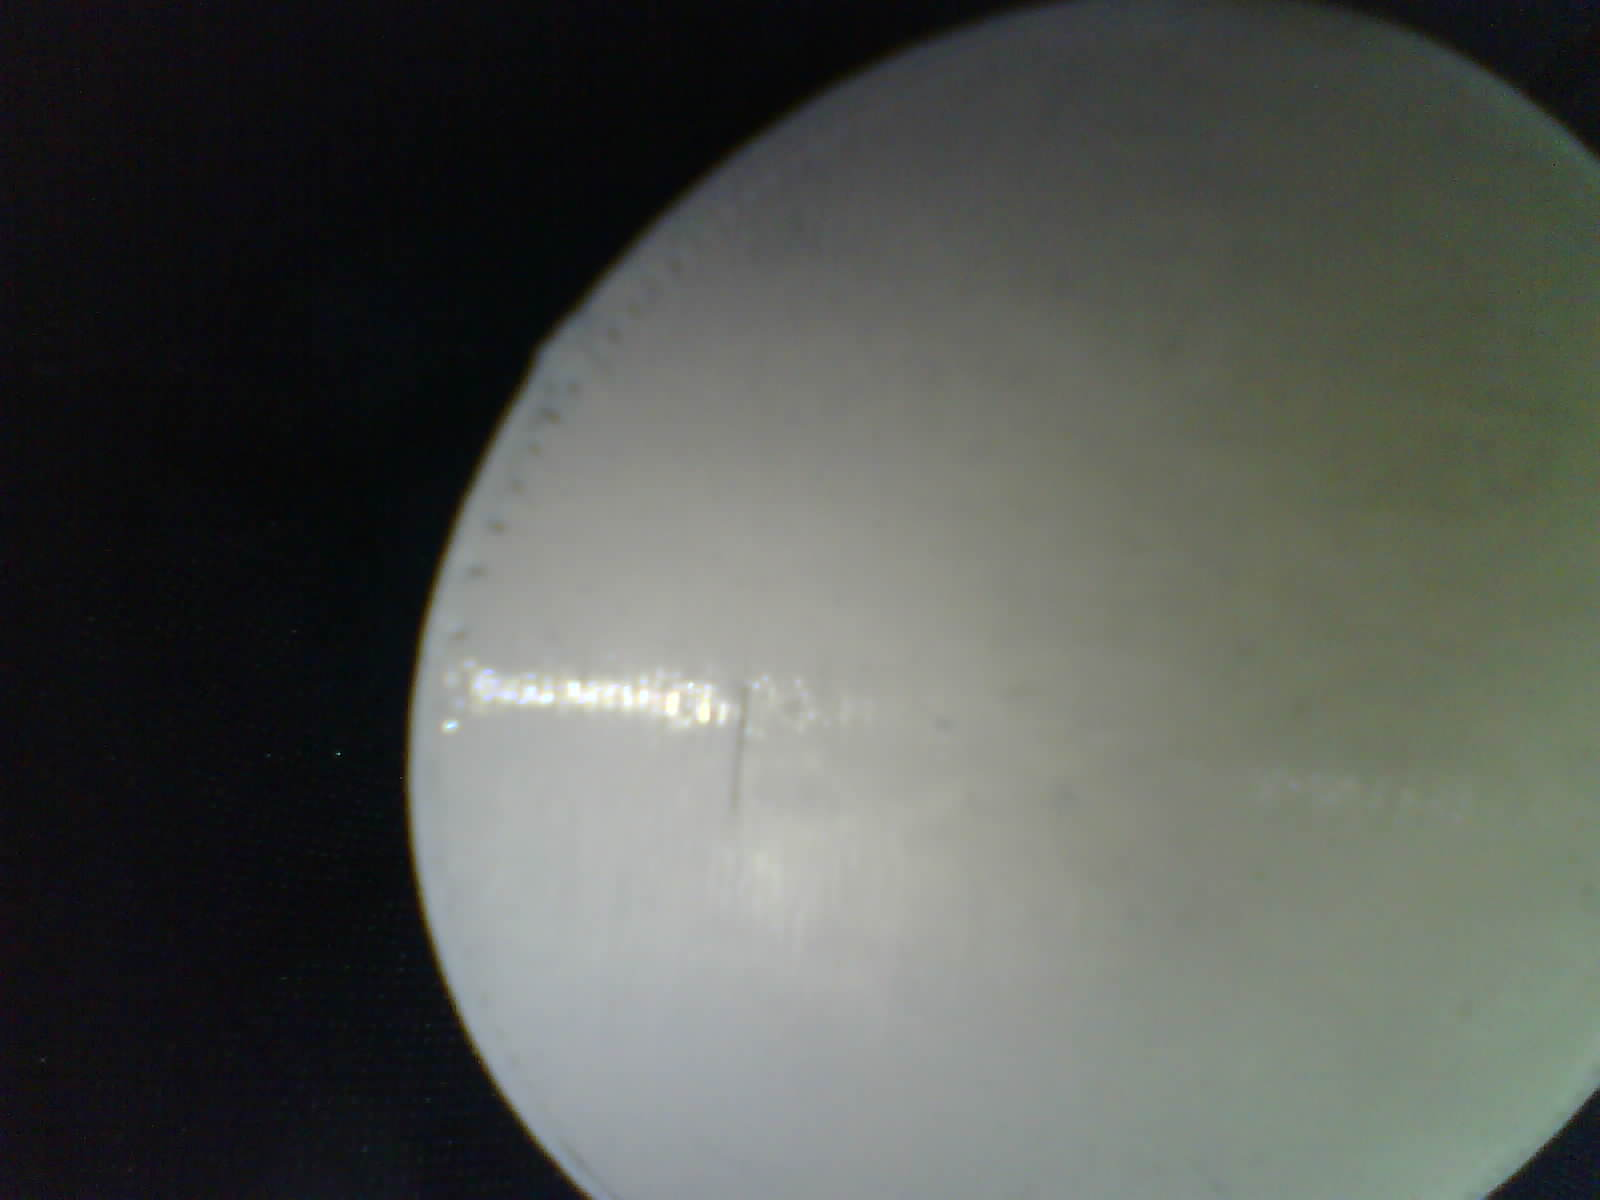cylinder-hard: (376, 0, 1600, 1200)
